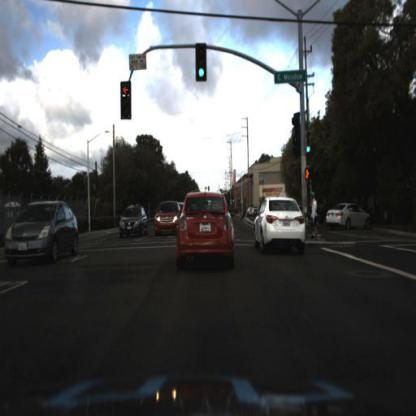biker: (306, 191, 320, 238)
car: (5, 202, 81, 267), (175, 189, 236, 265), (255, 194, 308, 258), (325, 200, 372, 234), (116, 202, 148, 239), (154, 203, 181, 241), (317, 201, 340, 226)
trafficLight: (196, 45, 208, 84), (302, 130, 314, 156)
trafficLight-RedLeft: (120, 82, 131, 122)
